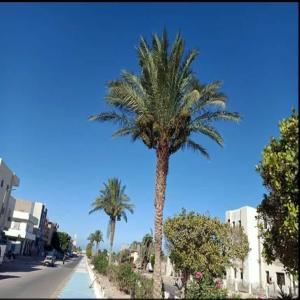palm tree: (87, 24, 243, 298), (88, 176, 134, 265), (92, 228, 103, 255)
